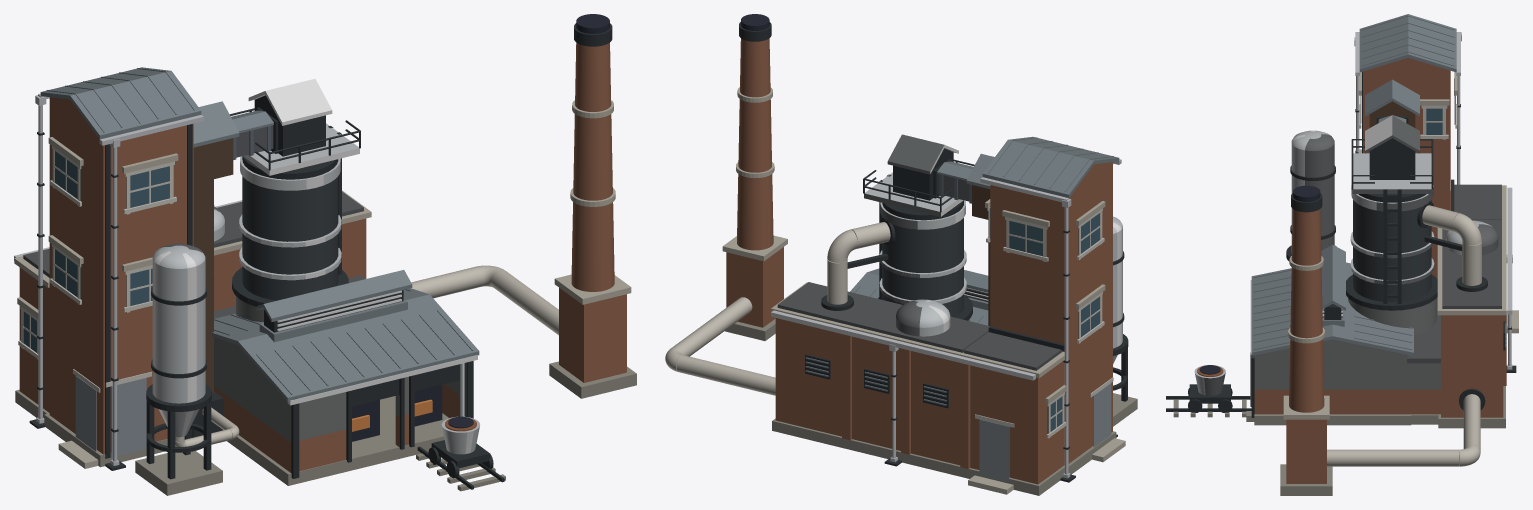
File: furnace_lvl2.glb
3 renders of one model, left to right at view 1: azimuth 30°, elevation 25°; view 2: azimuth 150°, elevation 25°; view 3: azimuth 270°, elevation 25°, orthographic. The views are drawn at different scales.
Visible parts, largest first — view 1: furnace_v2, furnace_v2_Glass; view 2: furnace_v2, furnace_v2_Glass; view 3: furnace_v2, furnace_v2_Glass.
Part boxes in pixels (x1,y1,x2,y2): furnace_v2: [14, 14, 636, 495]; furnace_v2_Glass: [23, 151, 169, 352]; furnace_v2: [665, 14, 1137, 495]; furnace_v2_Glass: [989, 208, 1099, 431]; furnace_v2: [1166, 14, 1518, 495]; furnace_v2_Glass: [1361, 96, 1455, 134].
Size of the model in its own units: 1 by 0.6871 by 0.749.
